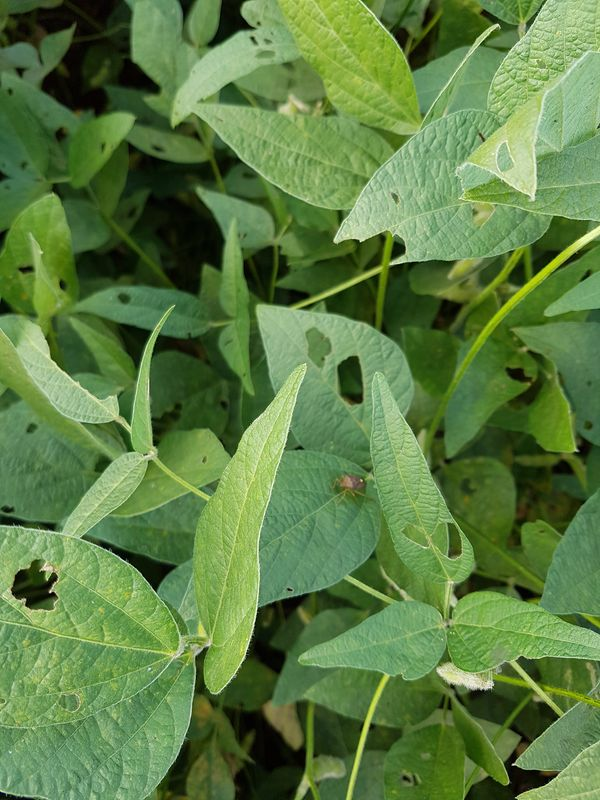Euschistus_heros_adulto: (324, 465, 377, 510)
